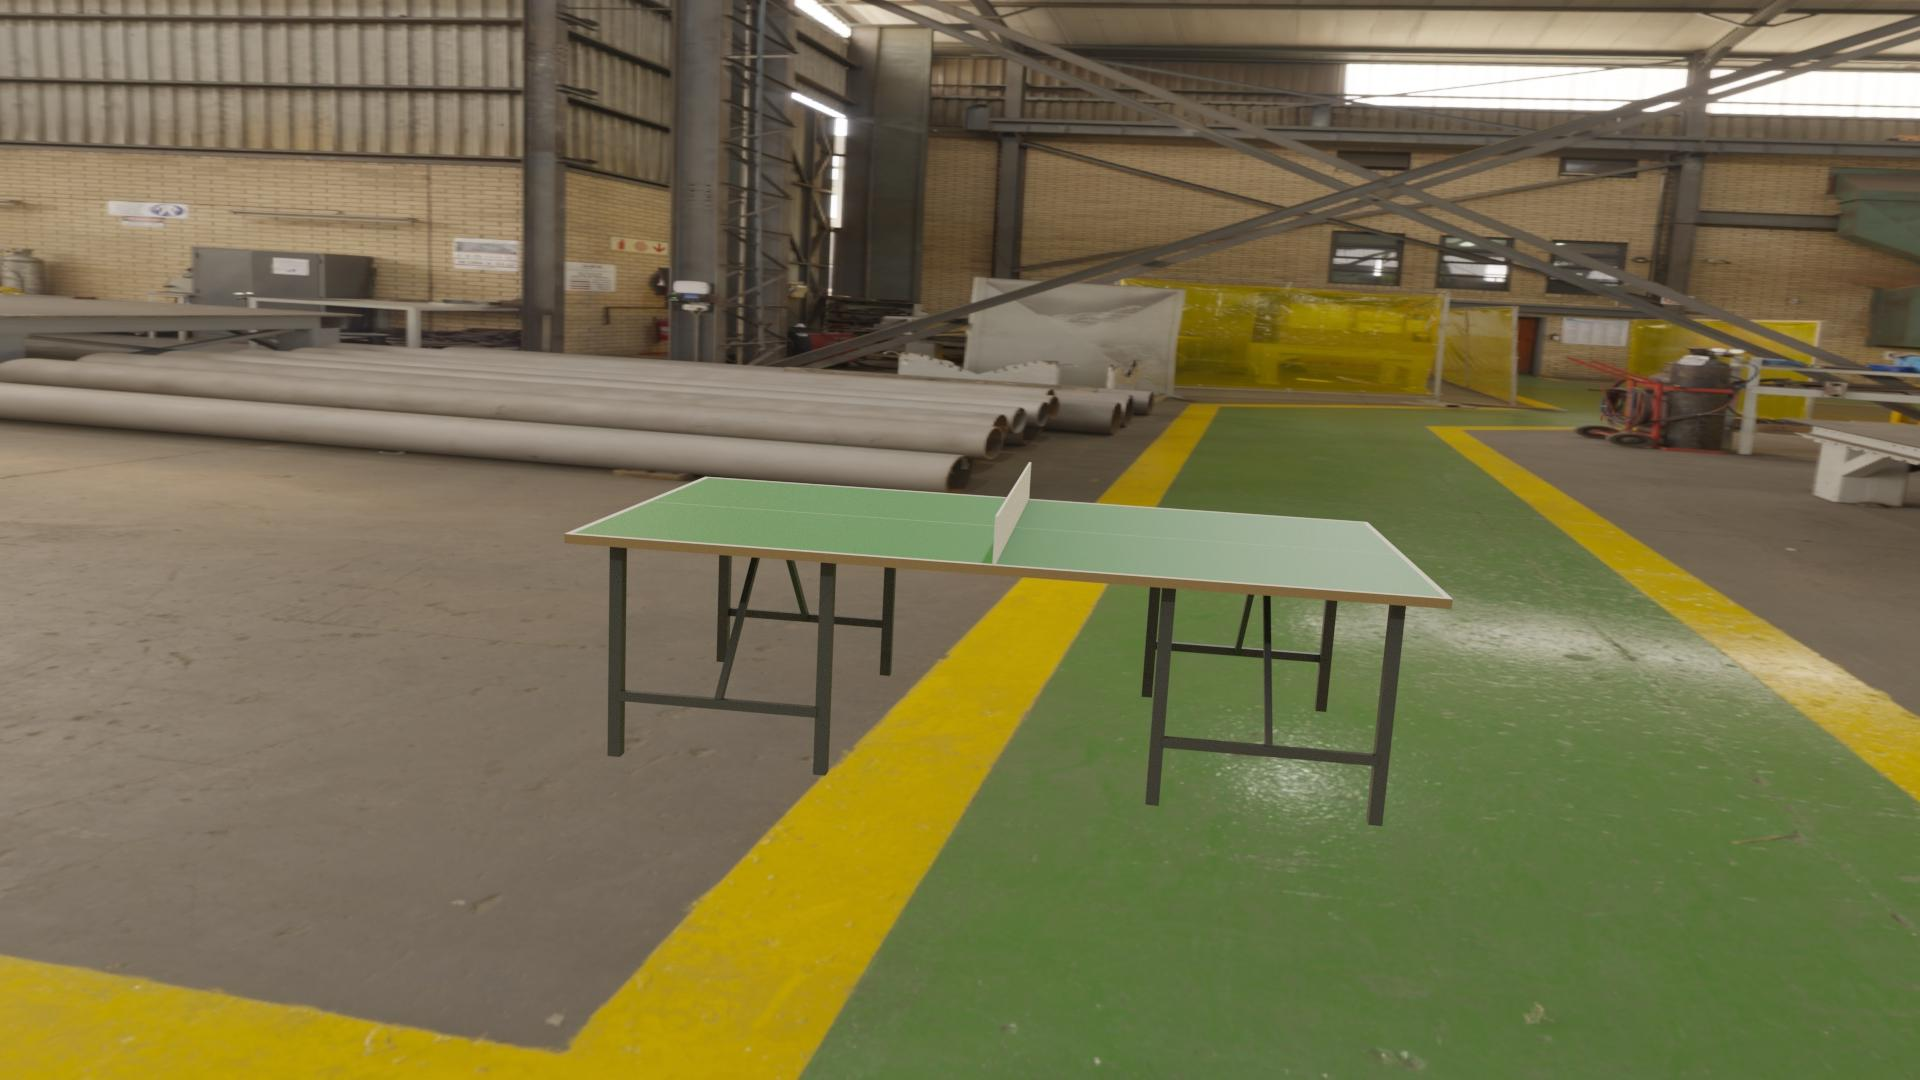table: (574, 477, 1444, 597)
